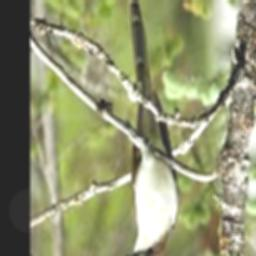Cuckoo: (128, 0, 179, 256)
